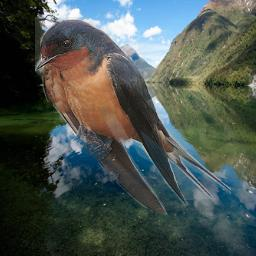Swallow: (35, 17, 231, 215)
